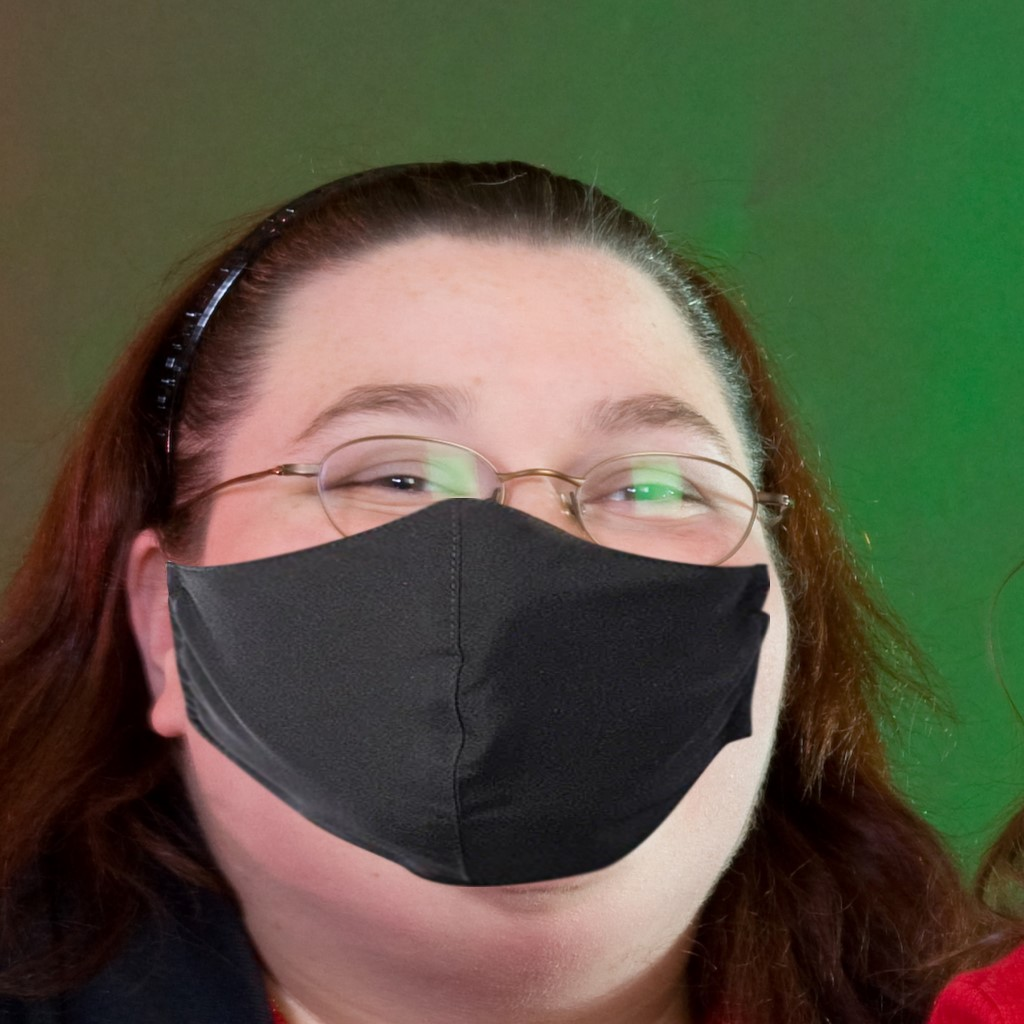con_mascara: (164, 238, 776, 944)
